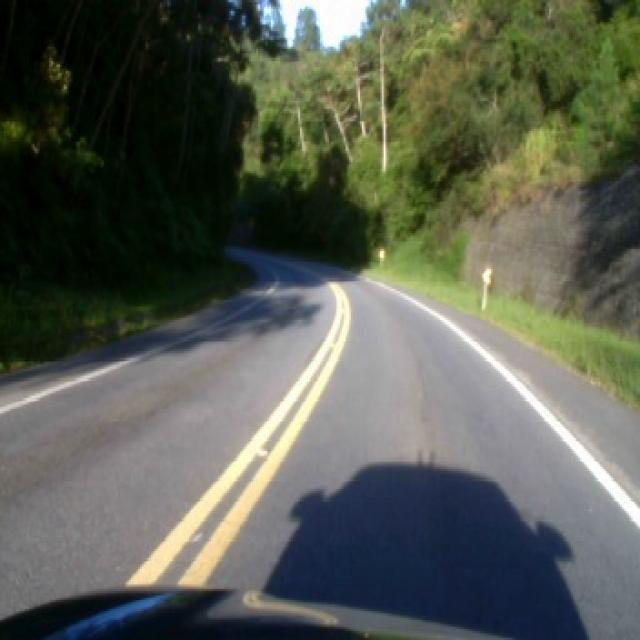Poth-hole: (256, 446, 266, 454), (327, 342, 335, 347)
